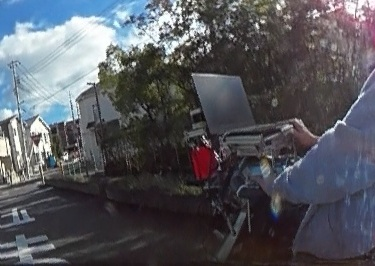person: (270, 0, 375, 254)
